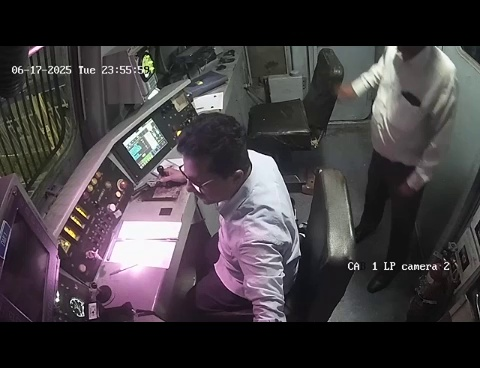horn_inactive: (78, 272, 124, 311)
